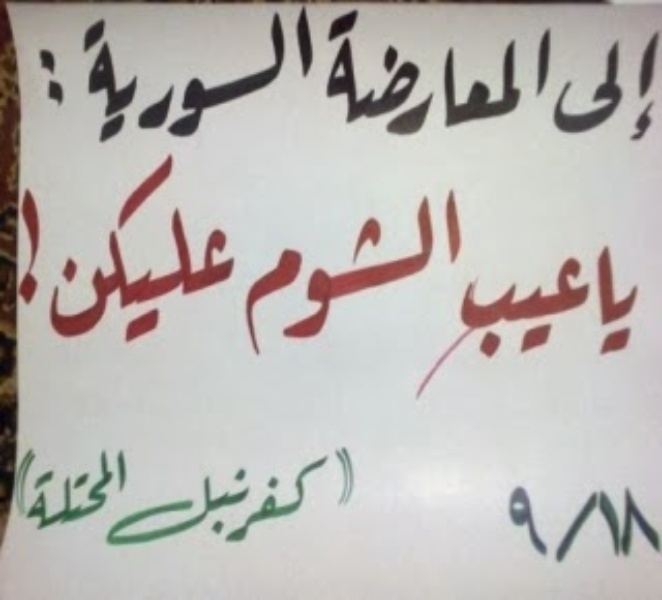text: (49, 135, 64, 379), (65, 135, 80, 379), (81, 135, 96, 379), (97, 135, 112, 379), (113, 135, 128, 379), (129, 135, 144, 379), (145, 135, 160, 379), (161, 135, 176, 379), (177, 135, 192, 379), (193, 135, 208, 379), (209, 135, 224, 379), (225, 135, 240, 379), (257, 187, 272, 371), (273, 187, 288, 371), (289, 187, 304, 371), (305, 187, 320, 371), (321, 187, 336, 371), (337, 187, 352, 371), (353, 187, 368, 371), (369, 187, 384, 371), (385, 187, 400, 371), (401, 187, 416, 371), (417, 187, 432, 371), (433, 187, 448, 371), (449, 187, 464, 371), (81, 9, 96, 152), (97, 9, 112, 152), (113, 9, 128, 152), (129, 9, 144, 152), (145, 9, 160, 152), (161, 9, 176, 152), (177, 9, 192, 152), (193, 9, 208, 152), (209, 9, 224, 152), (225, 9, 240, 152), (241, 9, 256, 152), (257, 9, 272, 152), (273, 9, 288, 152), (289, 9, 304, 152), (337, 7, 352, 141), (353, 7, 368, 141), (369, 7, 384, 141), (385, 7, 400, 141), (401, 7, 416, 141), (417, 7, 432, 141), (433, 7, 448, 141), (449, 7, 464, 141), (465, 7, 480, 141), (481, 7, 496, 141), (497, 7, 512, 141), (513, 7, 528, 141), (529, 7, 544, 141), (113, 439, 128, 572), (129, 439, 144, 572), (145, 439, 160, 572), (161, 439, 176, 572), (177, 439, 192, 572), (193, 439, 208, 572), (209, 439, 224, 572), (225, 439, 240, 572), (241, 439, 256, 572), (257, 439, 272, 572), (273, 439, 288, 572), (289, 439, 304, 572), (305, 439, 320, 572), (321, 439, 336, 572), (337, 439, 352, 572), (353, 439, 367, 572), (561, 21, 576, 145), (577, 21, 592, 145), (593, 21, 608, 145), (609, 21, 624, 145), (625, 21, 640, 145), (641, 21, 656, 145), (465, 241, 480, 363), (481, 241, 496, 363), (497, 241, 512, 363), (513, 241, 528, 363), (529, 241, 544, 363), (545, 241, 560, 363), (561, 241, 576, 363), (577, 241, 592, 363), (593, 241, 608, 363), (609, 241, 624, 363), (625, 241, 640, 363), (113, 447, 129, 538), (17, 447, 32, 538), (33, 447, 48, 538), (49, 447, 64, 538), (65, 447, 80, 538), (81, 447, 96, 538), (97, 447, 112, 538), (641, 241, 652, 363), (545, 7, 555, 141), (21, 187, 32, 307), (513, 487, 528, 565), (529, 487, 544, 565), (545, 487, 560, 565), (561, 487, 576, 565), (577, 487, 592, 565), (593, 487, 608, 565), (609, 487, 624, 565), (625, 487, 640, 565), (641, 487, 656, 565), (305, 9, 313, 152), (49, 46, 64, 114), (241, 135, 245, 379), (33, 187, 40, 307), (106, 439, 112, 572), (75, 9, 80, 152), (657, 21, 662, 145), (465, 187, 468, 371), (40, 46, 48, 114), (332, 7, 336, 141), (460, 241, 464, 363), (46, 135, 48, 379), (507, 487, 512, 565), (657, 487, 662, 565), (65, 46, 67, 114), (559, 21, 560, 145), (15, 447, 16, 538)
